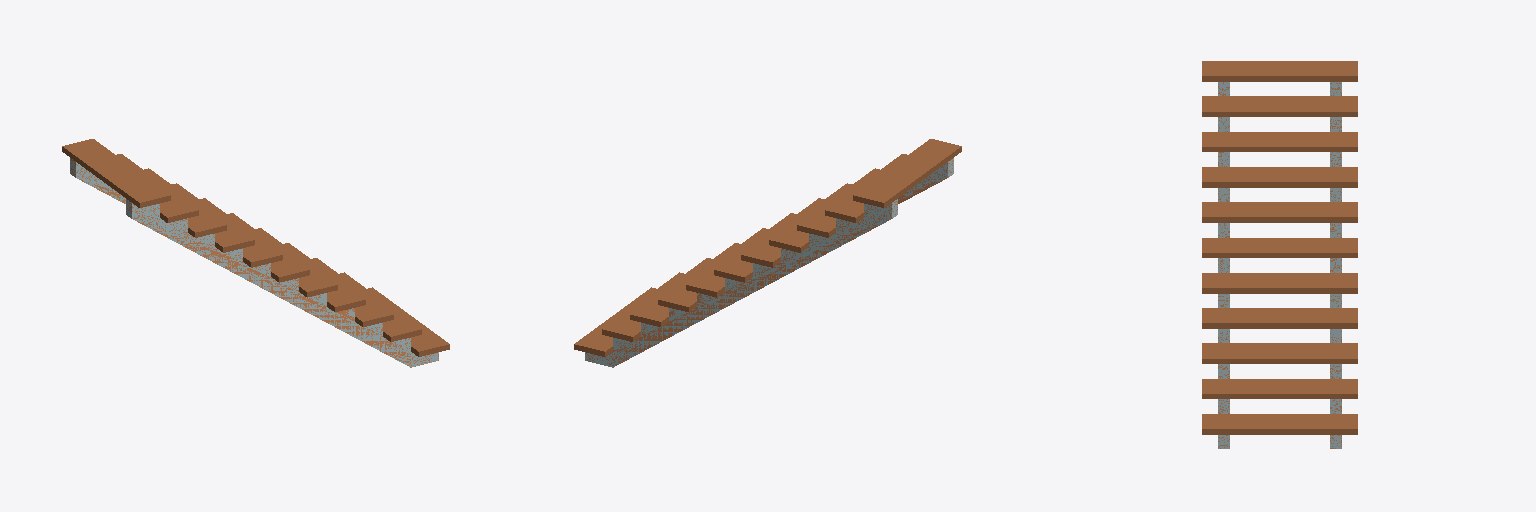
Rendered from stairsOpen.obj.
The picture shows the model from 3 angles: view 1: azimuth 30°, elevation 25°; view 2: azimuth 150°, elevation 25°; view 3: azimuth 270°, elevation 25°; orthographic projection.
Visible parts, largest first — view 1: stairsOpen, Group; view 2: stairsOpen, Group; view 3: stairsOpen, Group.
Boxes of the visible parts, x1=… form: stairsOpen: x1=62, y1=139, x2=449, y2=356; Group: x1=70, y1=158, x2=438, y2=367; stairsOpen: x1=574, y1=139, x2=961, y2=356; Group: x1=585, y1=158, x2=953, y2=367; stairsOpen: x1=1202, y1=61, x2=1357, y2=434; Group: x1=1218, y1=82, x2=1341, y2=448.
Size of the model in its own units: 1.82 by 1.34 by 0.79.